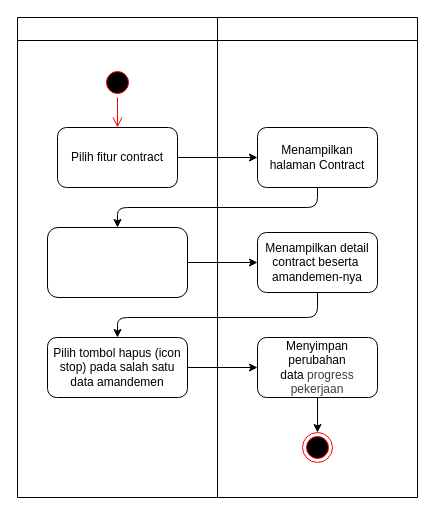
The diagram is 435 pixels wide and 515 high, and some of its shapes have lost their labels. Here are the shapes that lost their labels. From the top down, the box of each, then its label:
(16, 16, 218, 498): User
(46, 226, 188, 298): Tekan tombol setting (detail contract) pada salah satu data amandemen
(216, 16, 418, 498): Sistem
